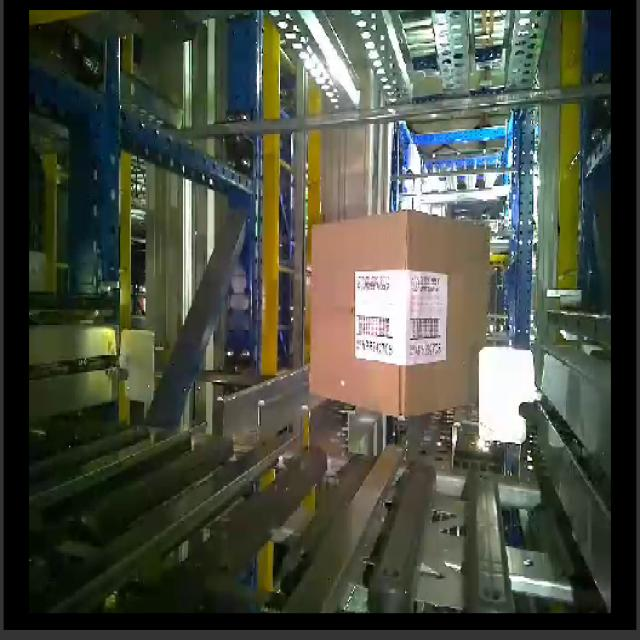box: (309, 209, 409, 420)
